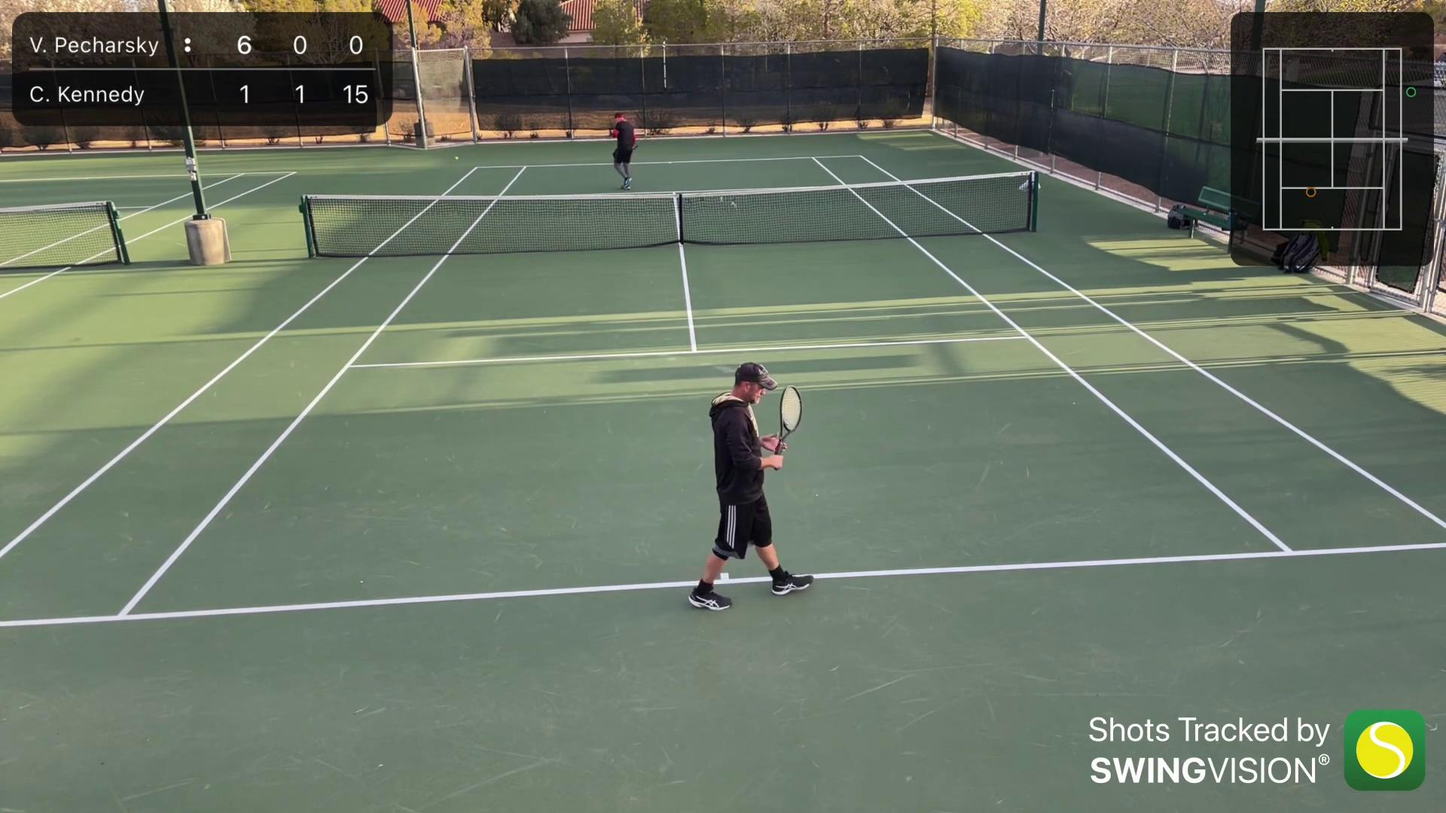ball: (453, 155, 461, 161)
